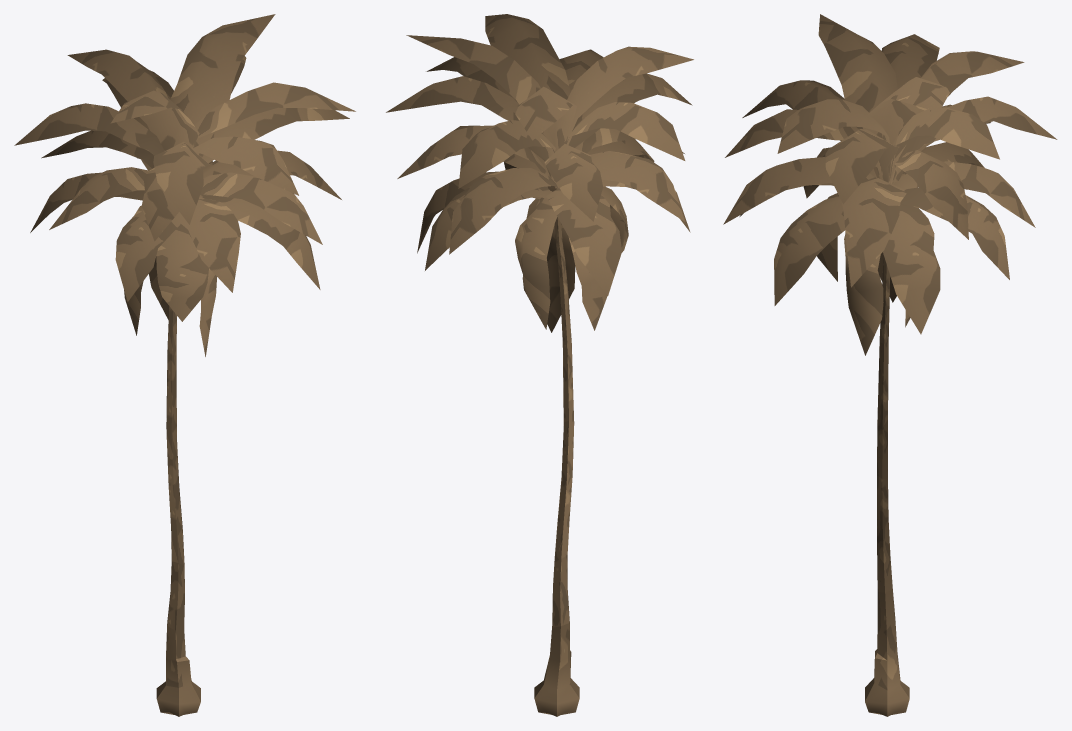
The model's file is SM_Env_Tree_Palm_03.fbx.
The picture shows the model from 3 angles, left to right: view 1: azimuth 30°, elevation 25°; view 2: azimuth 150°, elevation 25°; view 3: azimuth 270°, elevation 25°; orthographic projection. The views are drawn at different scales.
Visible parts, largest first — view 1: SM_Env_Tree_Palm_03_LOD0; view 2: SM_Env_Tree_Palm_03_LOD0; view 3: SM_Env_Tree_Palm_03_LOD0.
Boxes of the visible parts, x1,y1,x2,y2 form: SM_Env_Tree_Palm_03_LOD0: (14, 14, 355, 716); SM_Env_Tree_Palm_03_LOD0: (386, 14, 693, 716); SM_Env_Tree_Palm_03_LOD0: (723, 14, 1057, 716).
Size of what is drawn, in the model's own units: 799 by 1701 by 773.
